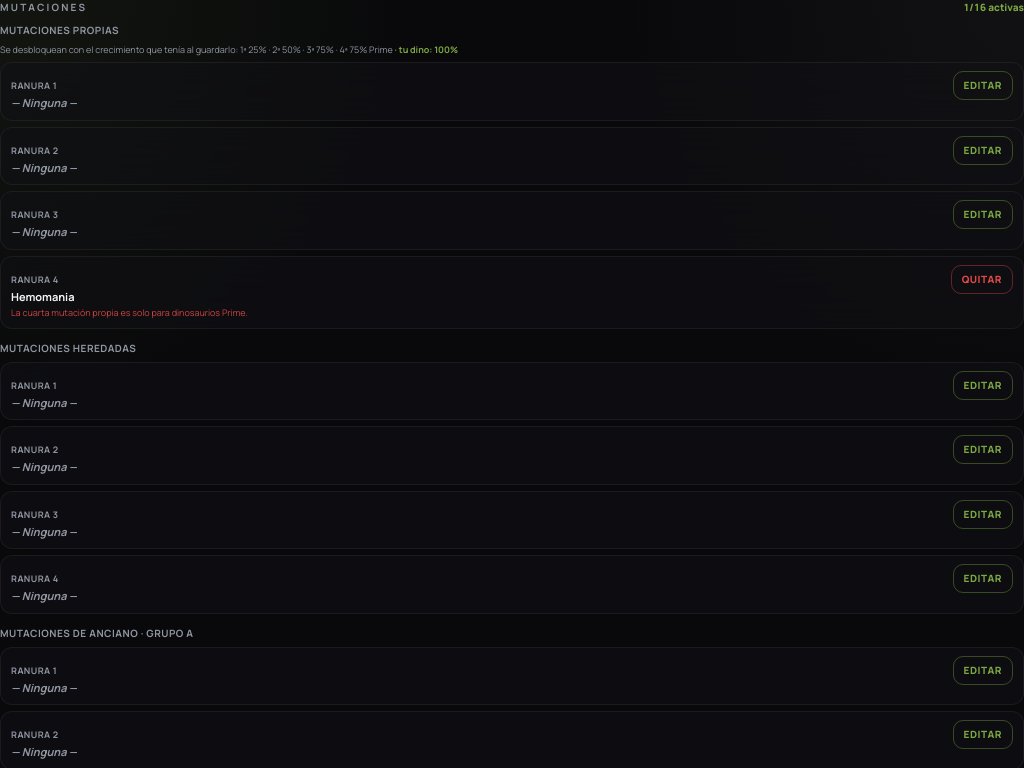
removing a mutation from a closed slot asks first, on a control of its own › the press that removes is a different element from the press that asks
Click the button with test id "mutation-edit-n4" at (982, 279), box [951, 265, 1013, 294]
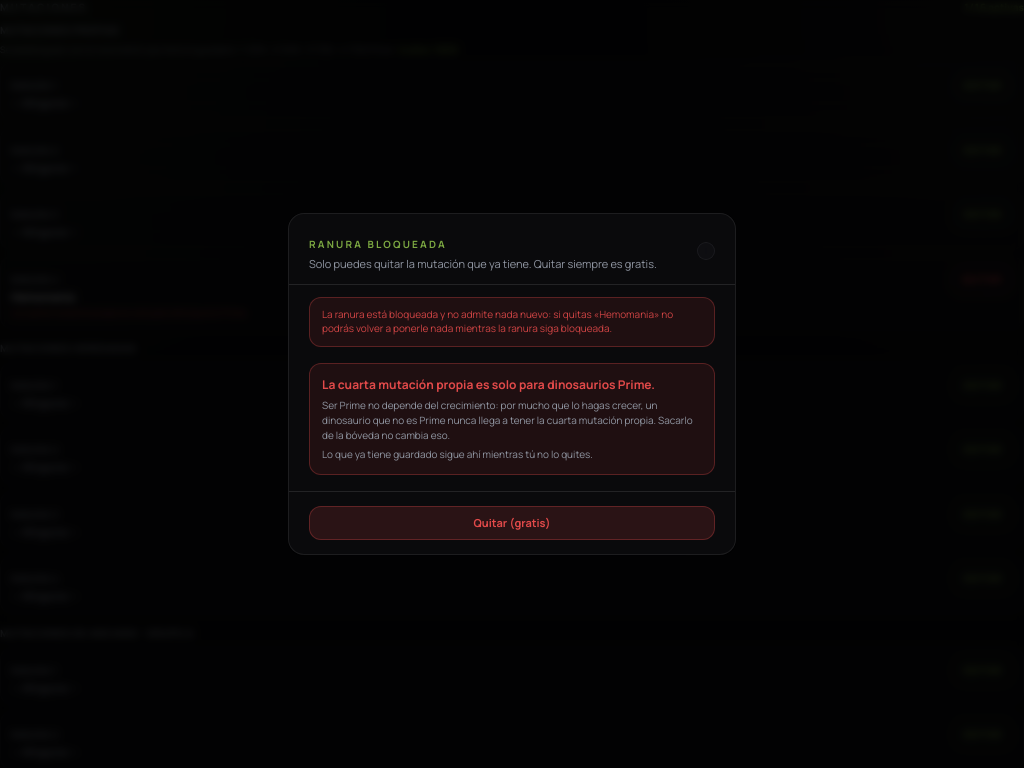
Click the button with test id "mutation-picker-clear" at (512, 523), box [309, 506, 715, 540]
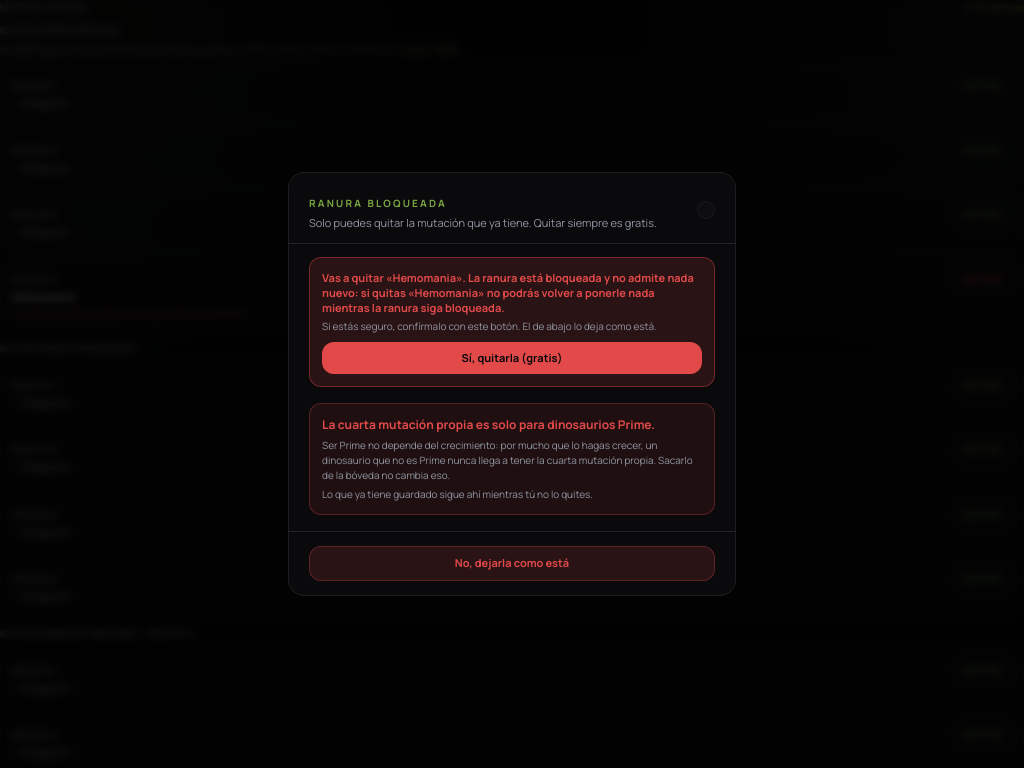
Now the button with test id "mutation-clear-confirm" is shown, box [322, 342, 702, 374]
